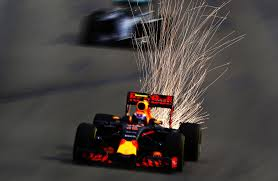f1_car: (68, 87, 209, 176)
